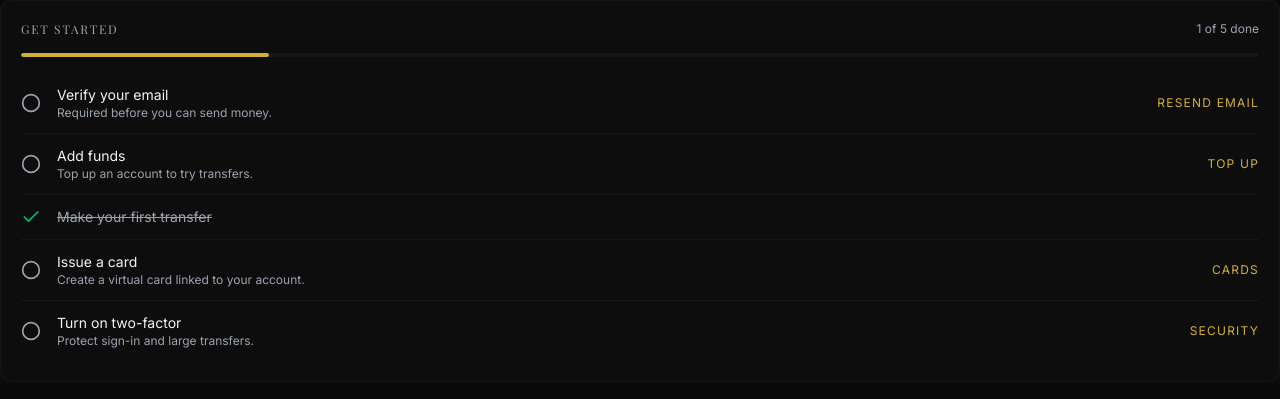
Scenario: GettingStarted › wires each step to its action
What coordinates should you click on to do the following:
click the button "Top up"
I would click on:
 (1233, 164)
Its box is [1208, 156, 1259, 172].
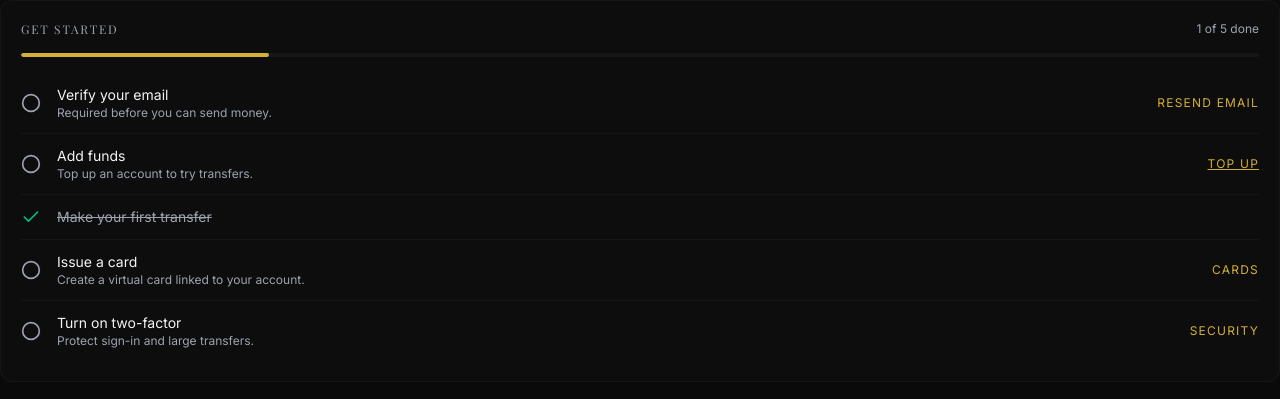
What coordinates should you click on to do the following:
click the button "Resend email"
I would click on:
 (1208, 103)
Its box is [1157, 95, 1259, 111].
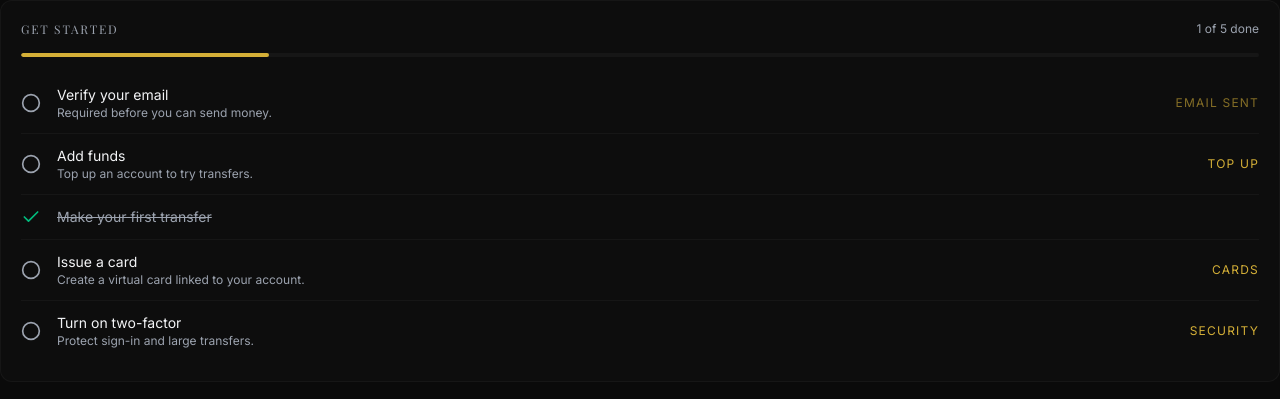
Result: the button "Email sent" is disabled at [1176, 95, 1259, 111]
